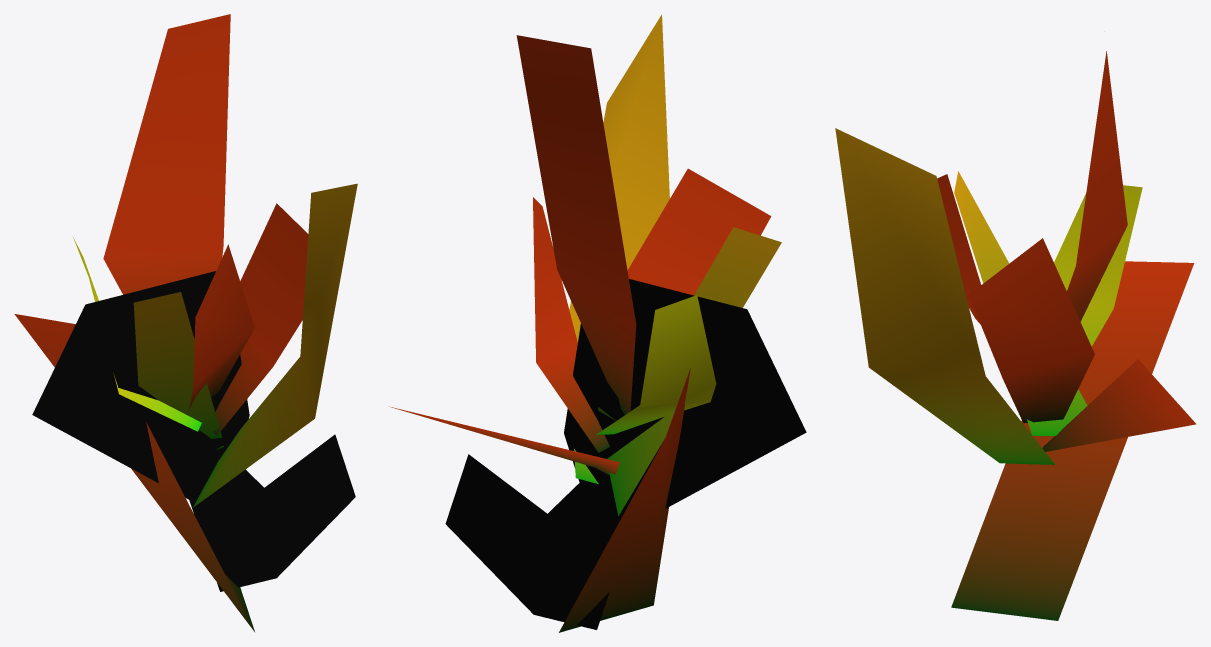
Rendered from Seaweed_LOD2_Var7_sdpjN.fbx.
The picture shows the model from 3 angles, left to right: view 1: azimuth 30°, elevation 25°; view 2: azimuth 150°, elevation 25°; view 3: azimuth 270°, elevation 25°; orthographic projection. The views are drawn at different scales.
Parts seen in each view (by area): view 1: _a2d2_Var7_LOD2; view 2: _a2d2_Var7_LOD2; view 3: _a2d2_Var7_LOD2.
Boxes of the visible parts, x1,y1,x2,y2 form: _a2d2_Var7_LOD2: (14, 14, 357, 631); _a2d2_Var7_LOD2: (389, 14, 806, 632); _a2d2_Var7_LOD2: (835, 51, 1196, 620).
Size of the model in its own units: 14.24 by 23.36 by 13.06.
